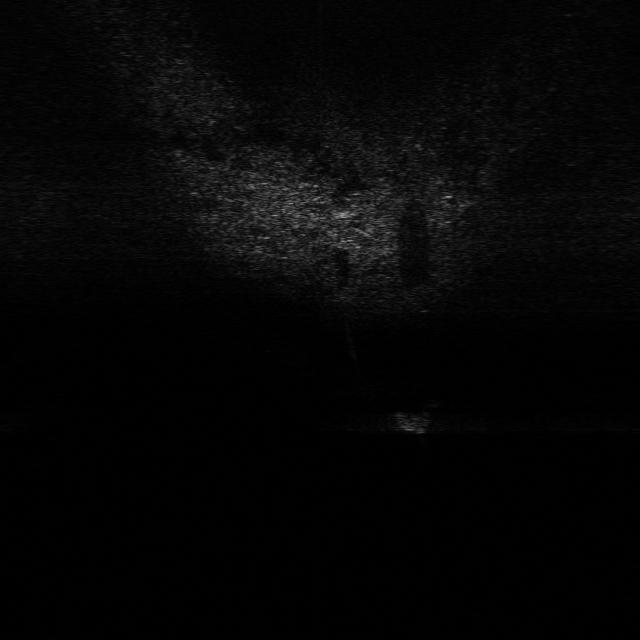cube: (330, 284, 360, 304)
square cage: (393, 408, 436, 437)
